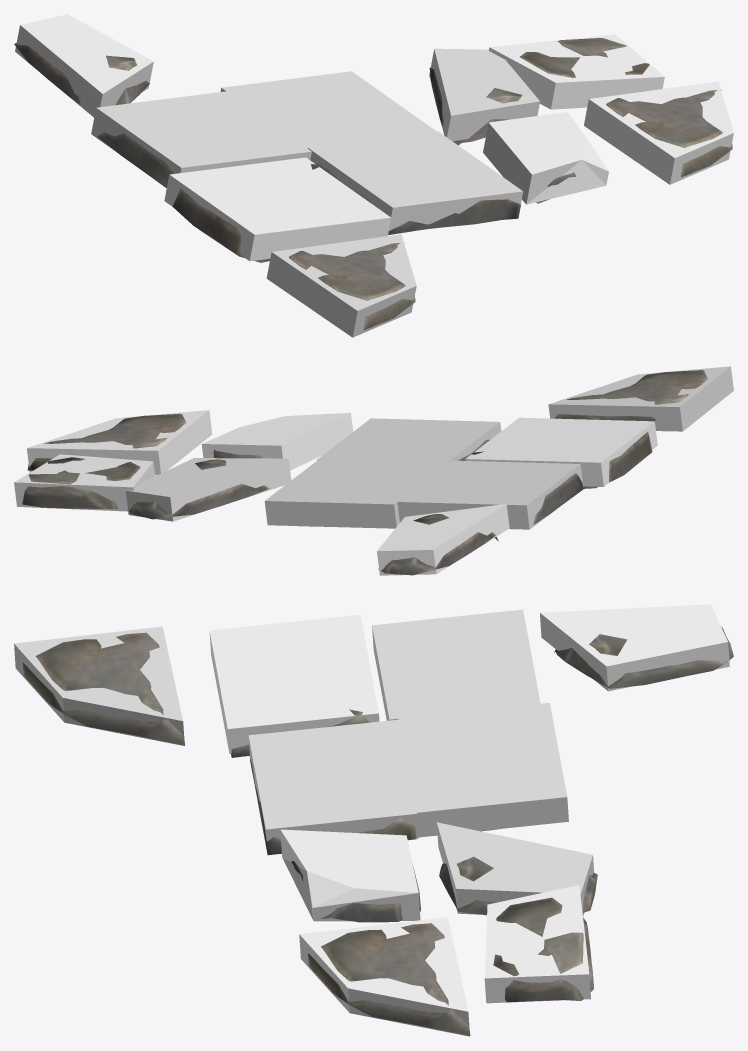
File: Floor_A2.fbx
3 renders of one model, top to bottom at view 1: azimuth 30°, elevation 25°; view 2: azimuth 150°, elevation 25°; view 3: azimuth 270°, elevation 25°, orthographic. The views are drawn at different scales.
Visible parts, largest first — view 1: Cube, Cube_1, Cube_3, Cube_2, Rock_A25_PZ, Rock_A23_PZ, Rock_A24_PZ, Rock_A26_PZ, Rock_A26_PZ_1, Rock_A23_PZ_1, Rock_A26__1_, Rock_A26__2_ (+6 smaller); view 2: Cube_2, Cube_3, Cube, Cube_1, Rock_A23_PZ_1, Rock_A25_PZ, Rock_A26_PZ_1, Rock_A23_PZ, Rock_A26_PZ, Rock_A24_PZ, Rock_A24__1_, Rock_A26__2_ (+5 smaller); view 3: Cube_2, Cube, Cube_1, Cube_3, Rock_A23_PZ, Rock_A25_PZ, Rock_A23_PZ_1, Rock_A26__1_, Rock_A26__2_, Rock_A24_PZ, Rock_A26_PZ, Rock_A26_PZ_1 (+5 smaller).
Part boxes in pixels (left/top/right/bottom): Cube: left=164, top=157, right=391, bottom=261; Cube_1: left=308, top=131, right=523, bottom=230; Cube_3: left=91, top=91, right=311, bottom=173; Cube_2: left=220, top=71, right=436, bottom=148; Rock_A25_PZ: left=483, top=112, right=608, bottom=204; Rock_A23_PZ: left=15, top=14, right=153, bottom=117; Rock_A24_PZ: left=489, top=34, right=664, bottom=109; Rock_A26_PZ: left=584, top=81, right=733, bottom=184; Rock_A26_PZ_1: left=266, top=234, right=416, bottom=337; Rock_A23_PZ_1: left=429, top=48, right=539, bottom=141; Rock_A26__1_: left=606, top=89, right=732, bottom=177; Rock_A26__2_: left=289, top=243, right=415, bottom=330; Cube_2: left=264, top=460, right=447, bottom=528; Cube_3: left=397, top=460, right=583, bottom=529; Cube: left=465, top=417, right=657, bottom=486; Cube_1: left=317, top=418, right=501, bottom=463; Rock_A23_PZ_1: left=125, top=458, right=291, bottom=521; Rock_A25_PZ: left=201, top=412, right=353, bottom=470; Rock_A26_PZ_1: left=548, top=366, right=733, bottom=431; Rock_A23_PZ: left=377, top=504, right=509, bottom=575; Rock_A26_PZ: left=27, top=410, right=212, bottom=475; Rock_A24_PZ: left=14, top=454, right=154, bottom=511; Rock_A24__1_: left=22, top=457, right=140, bottom=508; Rock_A26__2_: left=554, top=370, right=707, bottom=421; Cube_2: left=398, top=702, right=568, bottom=837; Cube: left=209, top=614, right=379, bottom=753; Cube_1: left=248, top=719, right=418, bottom=841; Cube_3: left=372, top=609, right=540, bottom=720; Rock_A23_PZ: left=540, top=604, right=729, bottom=691; Rock_A25_PZ: left=280, top=829, right=420, bottom=921; Rock_A23_PZ_1: left=436, top=822, right=594, bottom=916; Rock_A26__1_: left=308, top=923, right=470, bottom=1035; Rock_A26__2_: left=22, top=632, right=184, bottom=745; Rock_A24_PZ: left=484, top=885, right=590, bottom=1003; Rock_A26_PZ: left=299, top=917, right=469, bottom=1036; Rock_A26_PZ_1: left=14, top=626, right=184, bottom=745.
Size of the model in its own units: 329 by 71.67 by 328.
2 materials, 1 textured.
